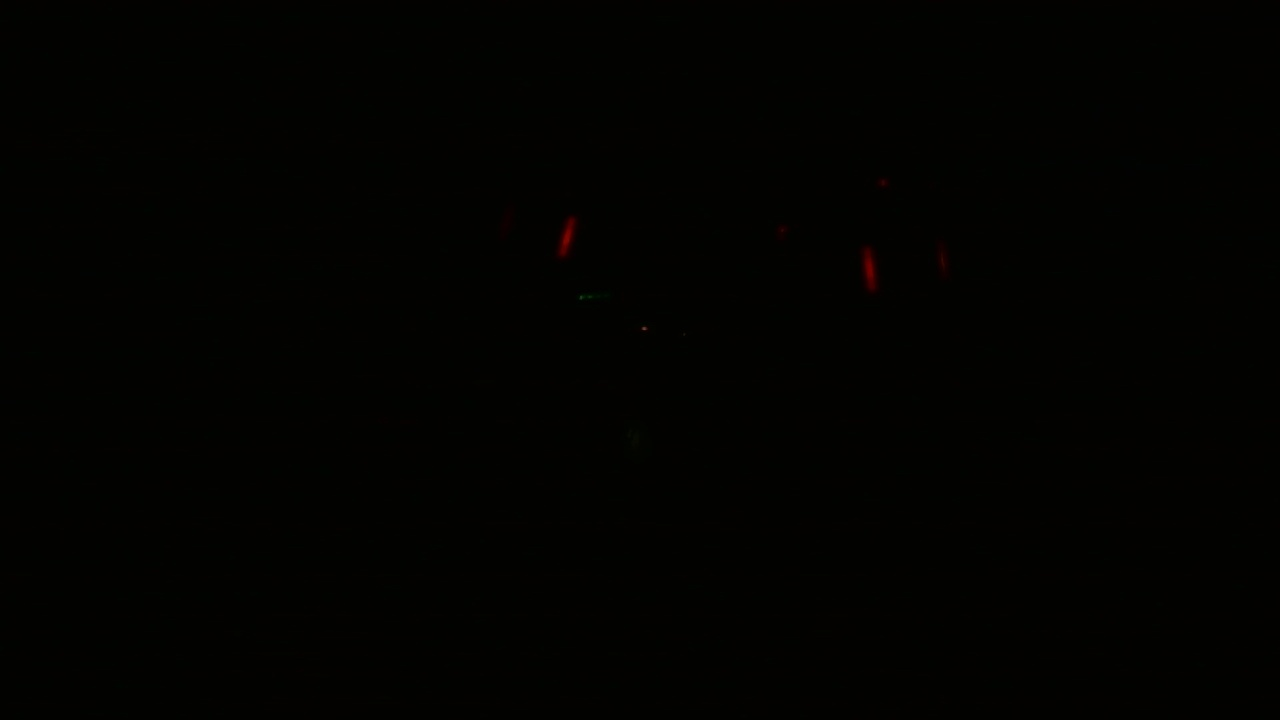pair1: (860, 243, 954, 289)
